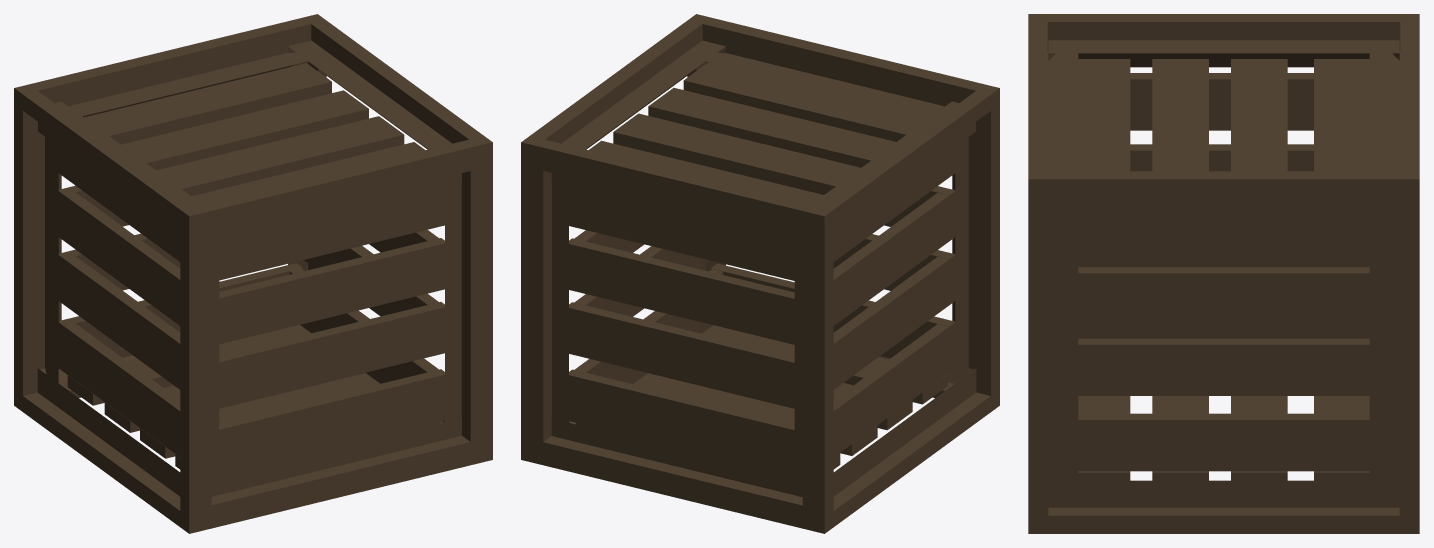
File: Crates.fbx
3 views of the same model, side by side, from view 1: azimuth 30°, elevation 25°; view 2: azimuth 150°, elevation 25°; view 3: azimuth 270°, elevation 25° (orthographic). The views are drawn at different scales.
Parts seen in each view (by area): view 1: CRATES; view 2: CRATES; view 3: CRATES.
Part boxes in pixels (<box>): CRATES: <box>14,14,492,533</box>; CRATES: <box>521,14,999,533</box>; CRATES: <box>1028,14,1419,533</box>.
Size of the model in its own units: 254 by 254 by 254.
